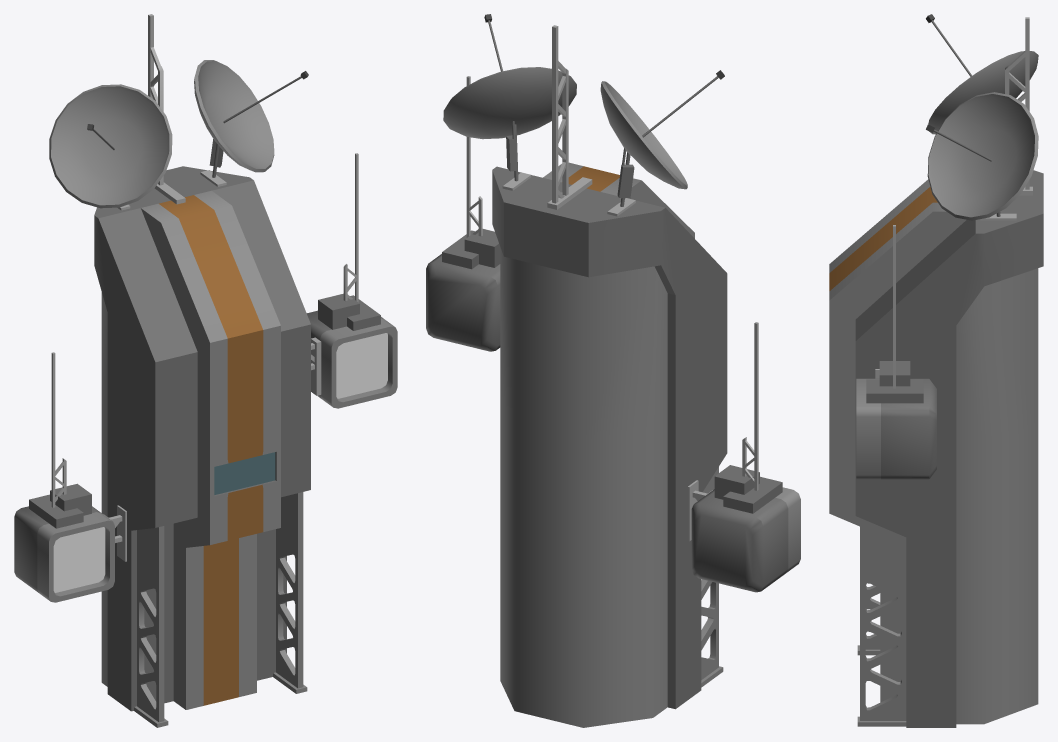
Rendered from ClassifyComputer.glb.
3 renders of one model, left to right at view 1: azimuth 30°, elevation 25°; view 2: azimuth 150°, elevation 25°; view 3: azimuth 270°, elevation 25°, orthographic. The views are drawn at different scales.
Parts seen in each view (by area): view 1: Computer_Large; view 2: Computer_Large; view 3: Computer_Large.
Boxes of the visible parts, x1,y1,x2,y2 form: Computer_Large: (14, 14, 397, 727); Computer_Large: (426, 14, 800, 727); Computer_Large: (829, 14, 1043, 727).
Size of the model in its own units: 1.29 by 2.38 by 0.6898.
